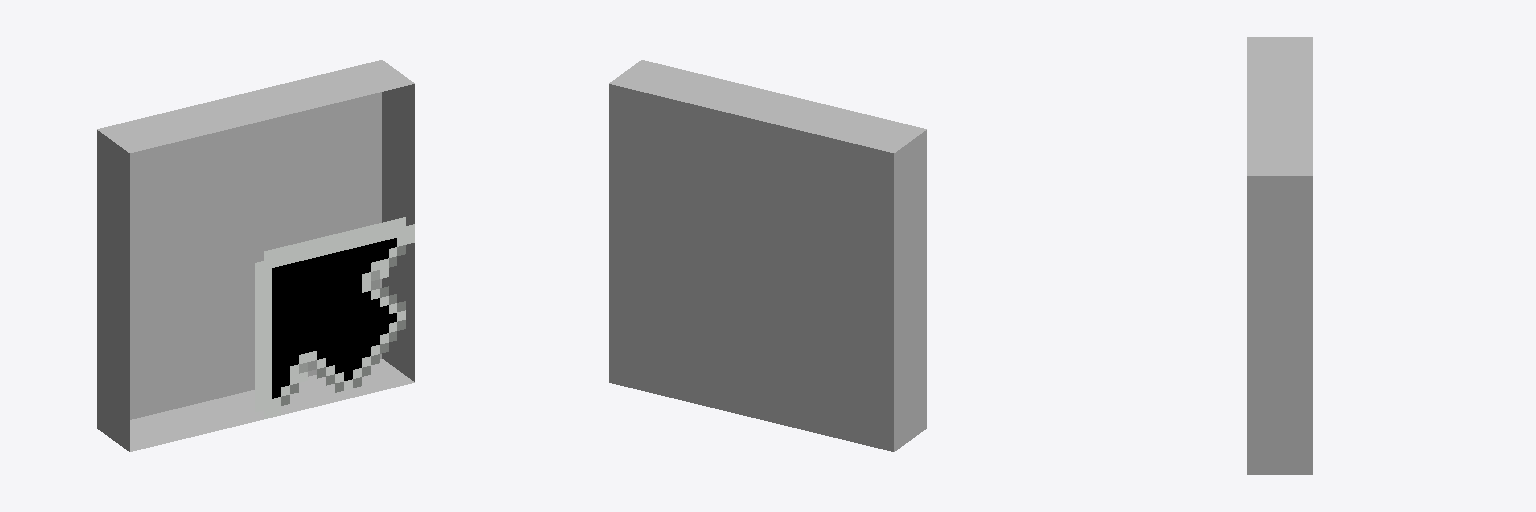
3 views of the same model, side by side, from view 1: azimuth 30°, elevation 25°; view 2: azimuth 150°, elevation 25°; view 3: azimuth 270°, elevation 25° (orthographic).
Visible parts, largest first — view 1: Cube; view 2: Cube; view 3: Cube.
Boxes of the visible parts, x1=… form: Cube: x1=97, y1=60, x2=414, y2=451; Cube: x1=609, y1=60, x2=926, y2=451; Cube: x1=1247, y1=37, x2=1312, y2=474.
Bounding box in the file's own units: 0.5 × 0.5 × 0.1.
2 materials, 1 textured.